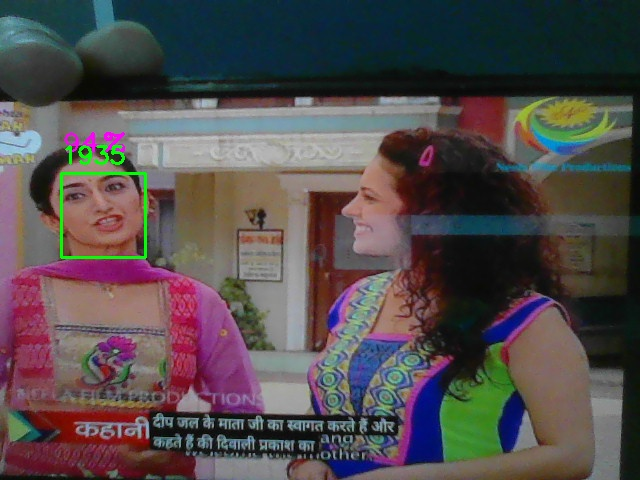fake: (61, 173, 146, 258)
